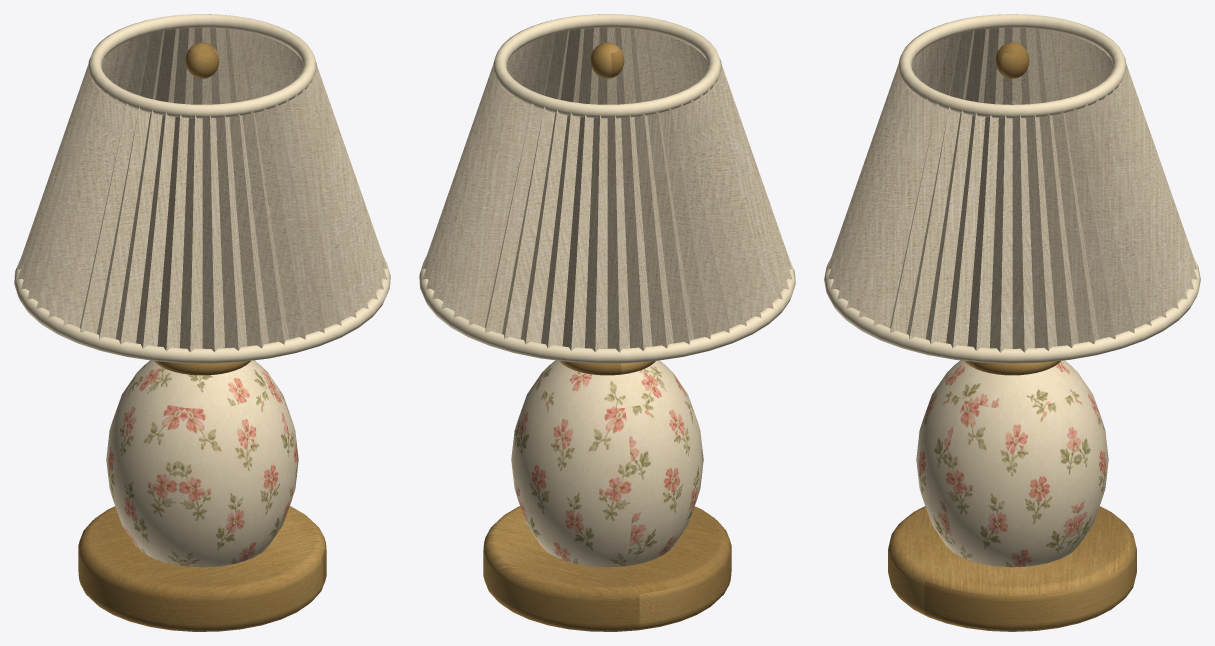
Rendered from SM_InteriorAdditions_BedsideLamp.fbx.
The picture shows the model from 3 angles, left to right: view 1: azimuth 30°, elevation 25°; view 2: azimuth 150°, elevation 25°; view 3: azimuth 270°, elevation 25°; orthographic projection.
Visible parts, largest first — view 1: SM_InteriorAdditions_BedsideLamp; view 2: SM_InteriorAdditions_BedsideLamp; view 3: SM_InteriorAdditions_BedsideLamp.
Boxes of the visible parts, x1,y1,x2,y2 form: SM_InteriorAdditions_BedsideLamp: (14,14,390,631); SM_InteriorAdditions_BedsideLamp: (419,14,795,631); SM_InteriorAdditions_BedsideLamp: (824,14,1200,631).
Size of what is drawn, in the model's own units: 36 by 36 by 56.87.
